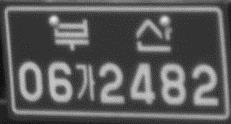0: (16, 59, 43, 102)
2: (191, 62, 221, 107), (98, 61, 125, 105)
4: (127, 61, 156, 105)
6: (46, 58, 73, 105)
8: (158, 61, 187, 106)
가: (74, 62, 98, 102)
부산_D: (53, 13, 173, 55)
